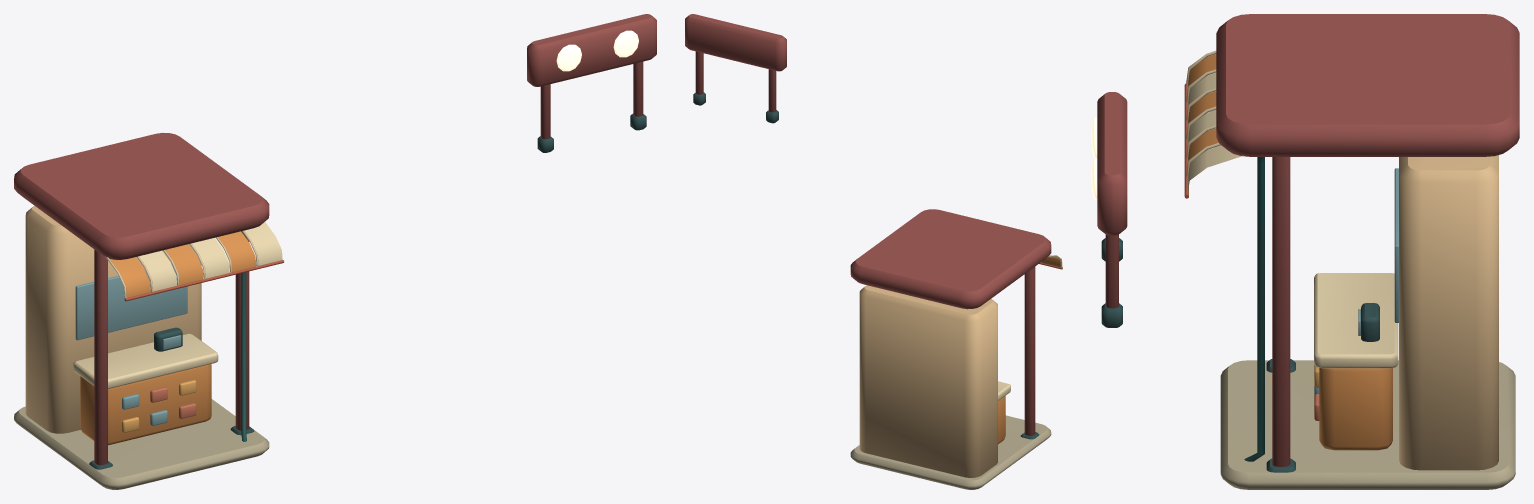
Rendered from route66_restaurant_4.glb.
The picture shows the model from 3 angles, left to right: view 1: azimuth 30°, elevation 25°; view 2: azimuth 150°, elevation 25°; view 3: azimuth 270°, elevation 25°; orthographic projection. The views are drawn at different scales.
Visible parts, largest first — view 1: Route66Restaurant4; view 2: Route66Restaurant4; view 3: Route66Restaurant4.
Part boxes in pixels (x1,y1,x2,y2): Route66Restaurant4: [14, 14, 656, 489]; Route66Restaurant4: [685, 14, 1062, 489]; Route66Restaurant4: [1091, 14, 1519, 489].
Size of the model in its own units: 7.15 by 5.15 by 3.6.
